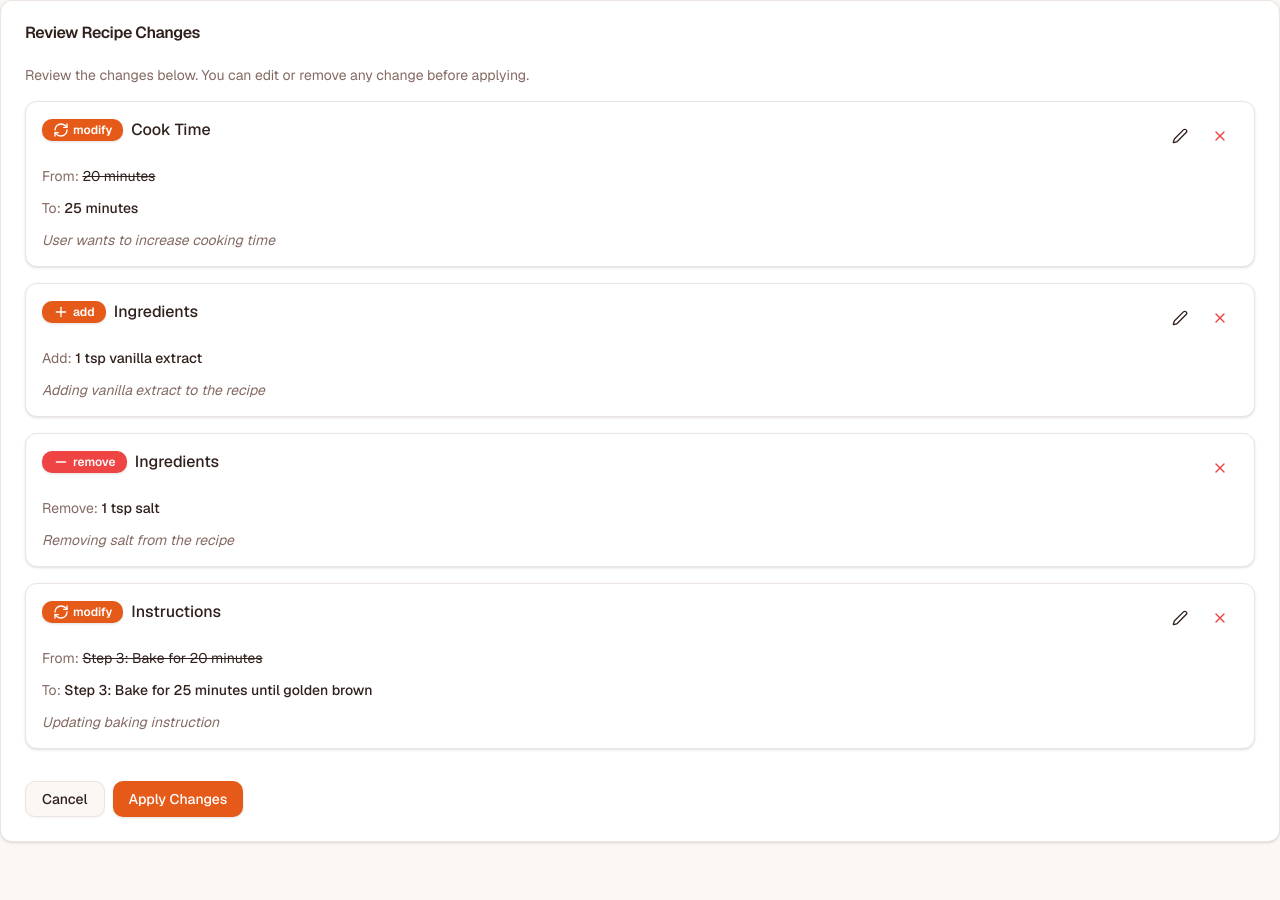
VoiceChangeReview › enters edit mode when edit button is clicked
Click the 1st button at (1180, 136), box [1162,118,1198,154]
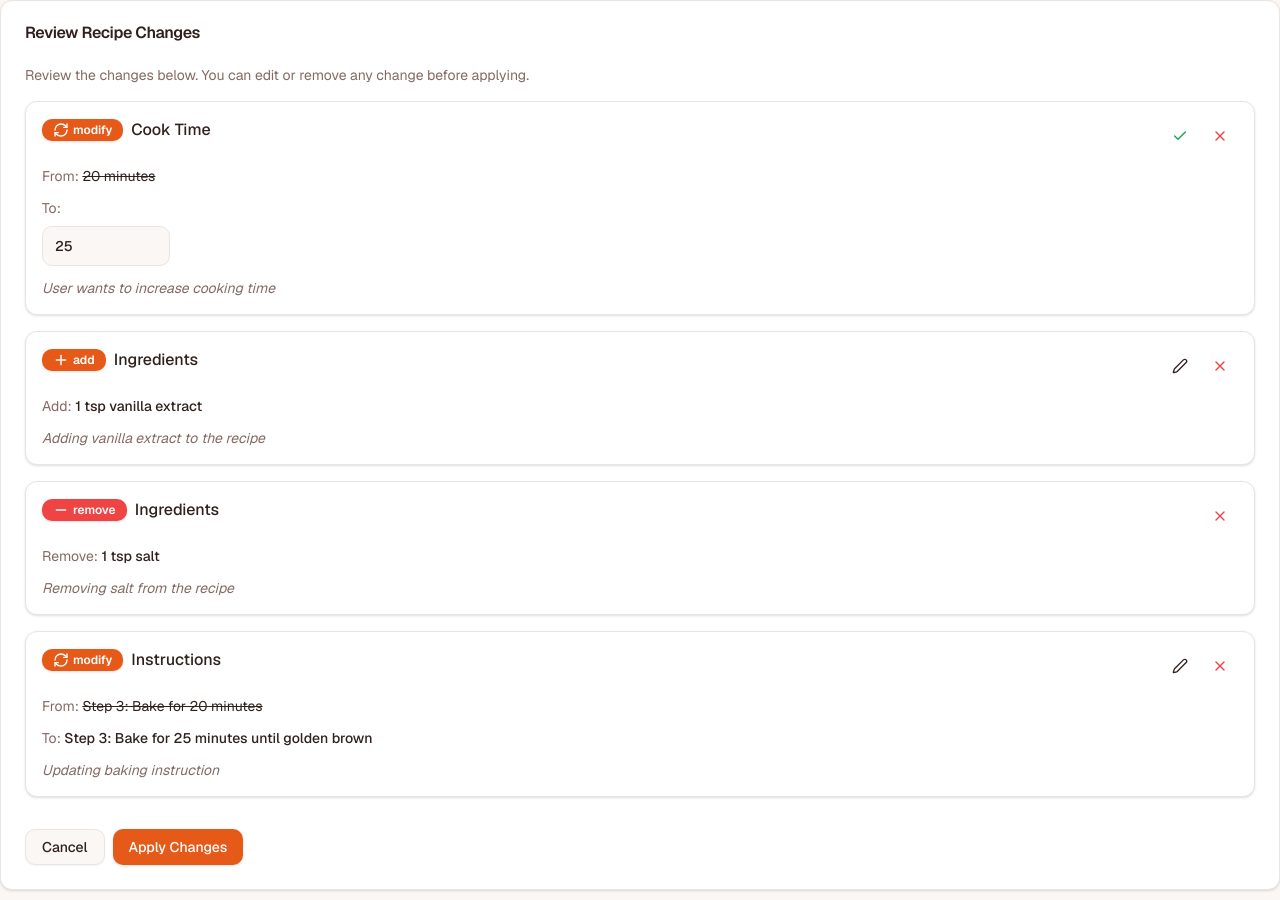
Expected: the number field holds "25", [42,226,170,266]
